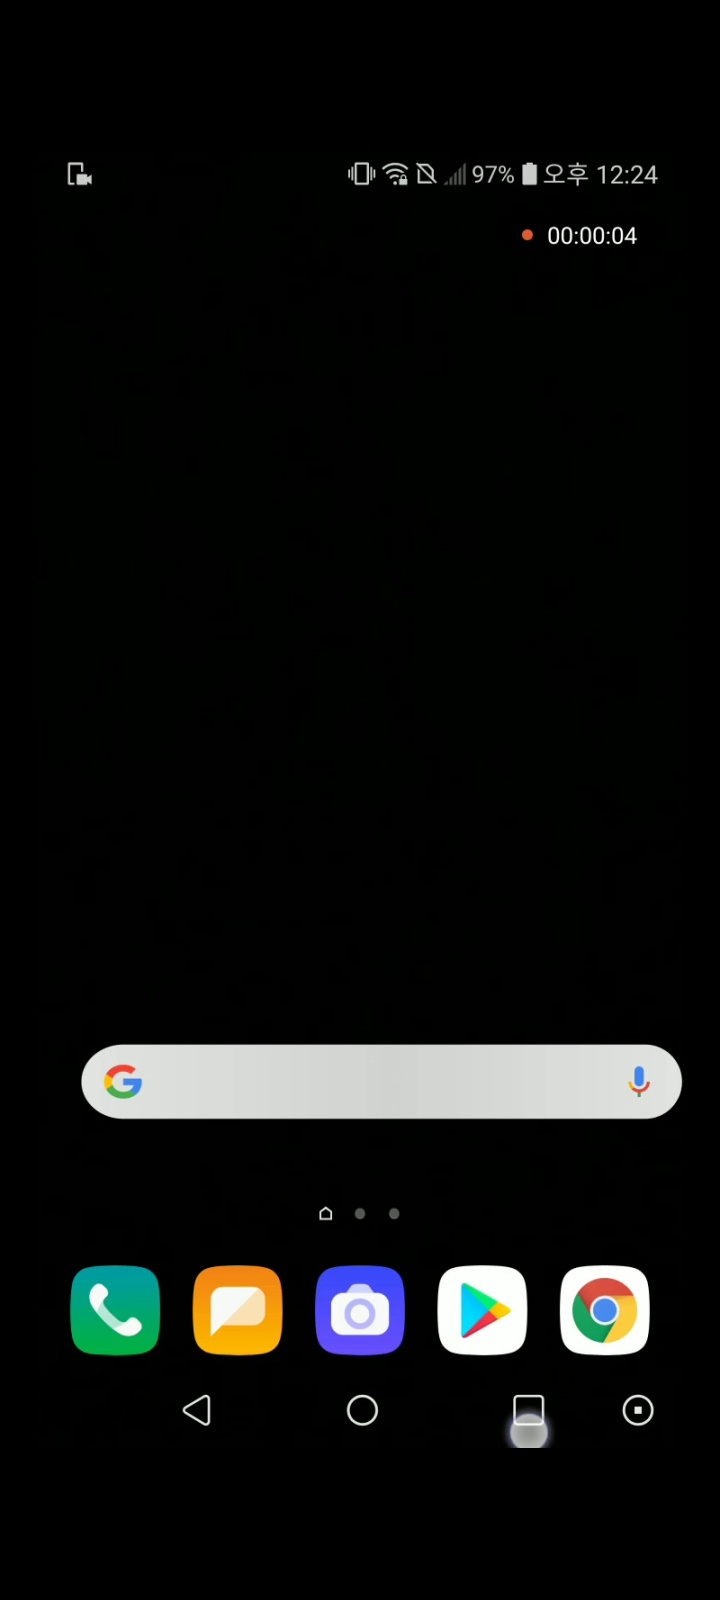Cursor: (507, 1403, 552, 1448)
